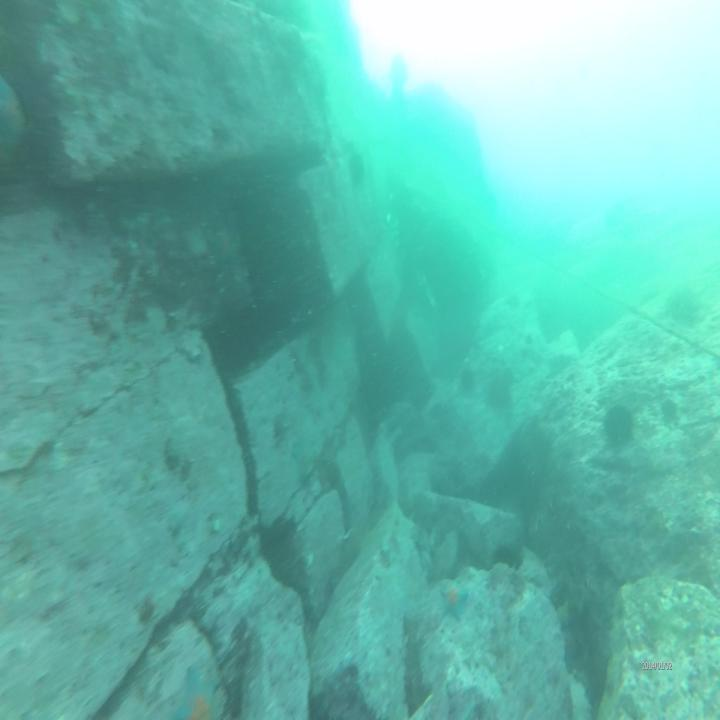echinus: (604, 402, 636, 451), (348, 151, 366, 190), (460, 366, 477, 396), (662, 397, 678, 423)
starfish: (170, 669, 223, 720), (438, 579, 466, 622)
